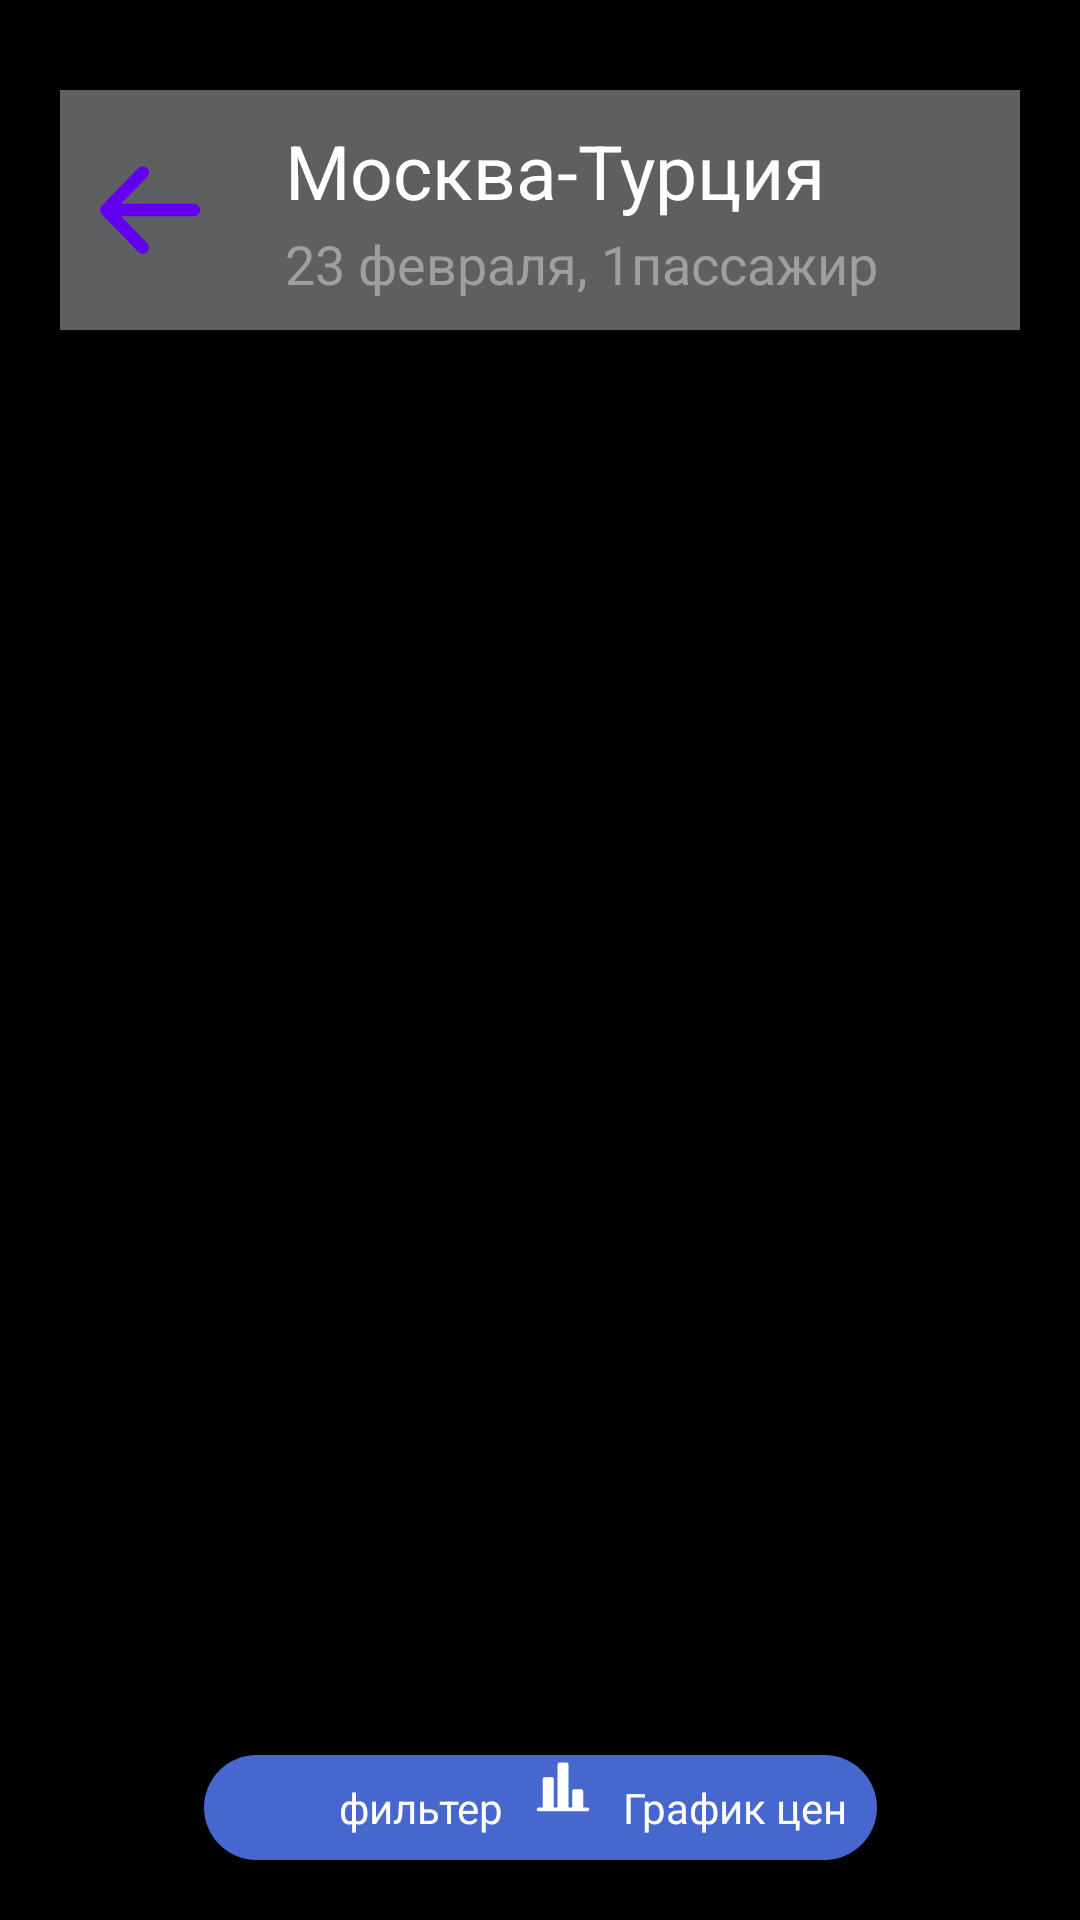

Where to tap for icons on this 1080px×1920px app screen, as (x,y):
back: (150,210)
